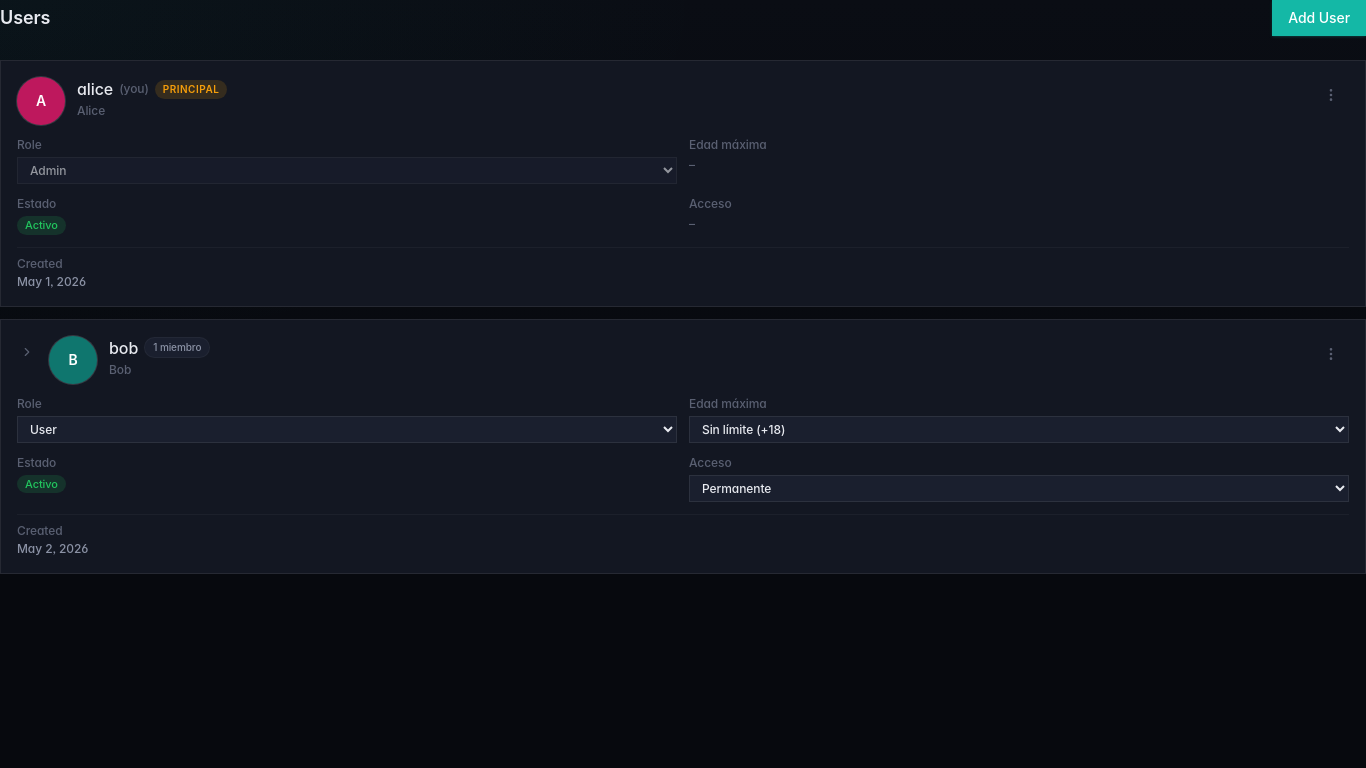
UsersAdmin (mobile) › collapses profile children under their parent and expands on click
The image size is (1366, 768).
Expected: the text "bob" is shown, x1=109 y1=336 x2=138 y2=360
Expected: the text "kid" is not shown
What coordinates should you click on to do the following:
click the button named "mostrar miembros"
I would click on:
 (27, 352)
Its box is x1=17 y1=342 x2=37 y2=362.
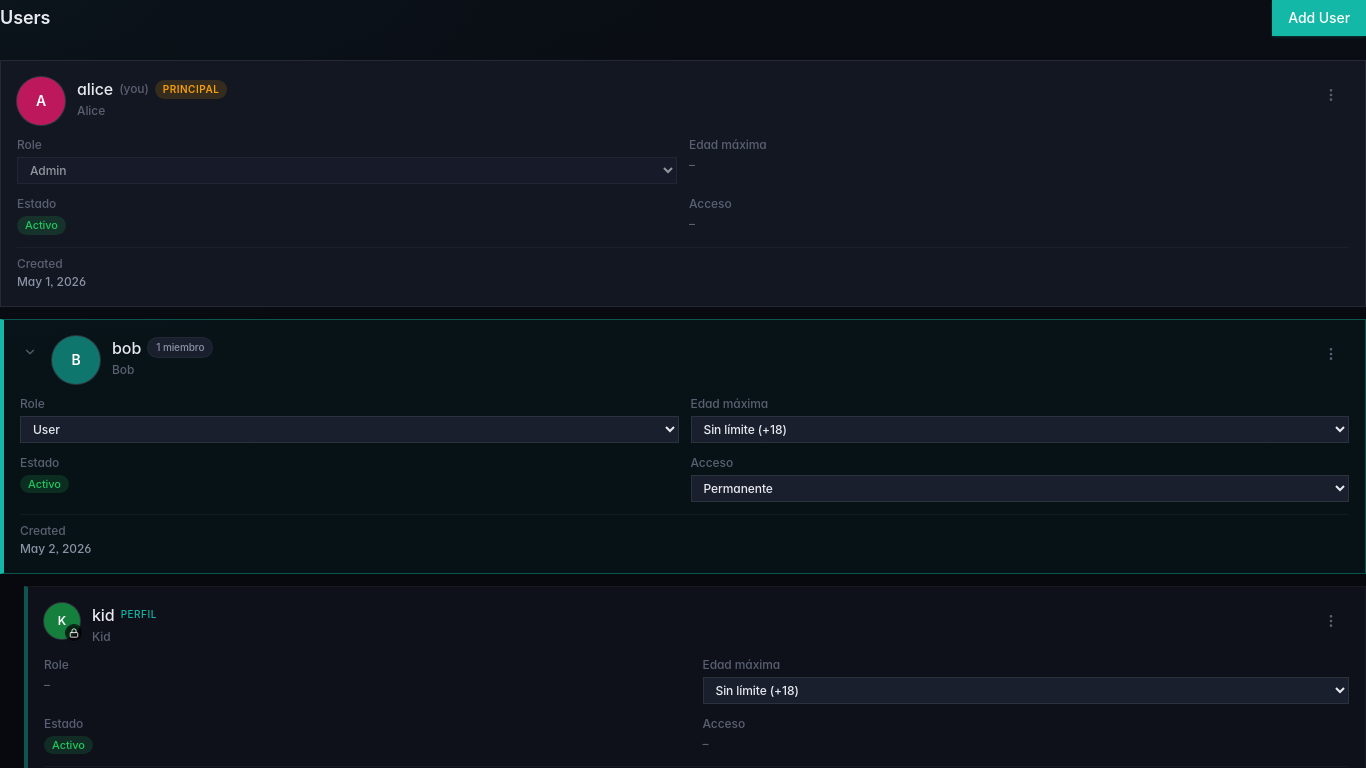
Expected: the text "kid" is shown, x1=92 y1=603 x2=115 y2=627
